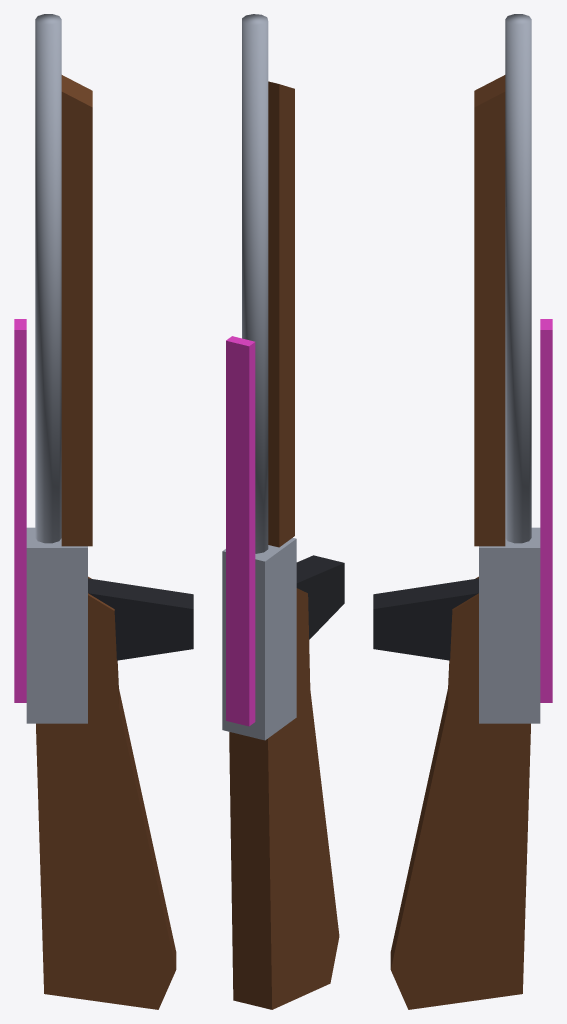
File: laser_rifle.glb
The picture shows the model from 3 angles, left to right: view 1: azimuth 90°, elevation 25°; view 2: azimuth 150°, elevation 25°; view 3: azimuth 270°, elevation 25°; orthographic projection.
Parts seen in each view (by area): view 1: laser_rifle_v0; view 2: laser_rifle_v0; view 3: laser_rifle_v0.
Boxes of the visible parts, x1,y1,x2,y2 form: laser_rifle_v0: [14, 14, 193, 1009]; laser_rifle_v0: [222, 14, 344, 1009]; laser_rifle_v0: [373, 14, 552, 1009].
Size of the model in its own units: 0.055 by 1.23 by 0.204.
